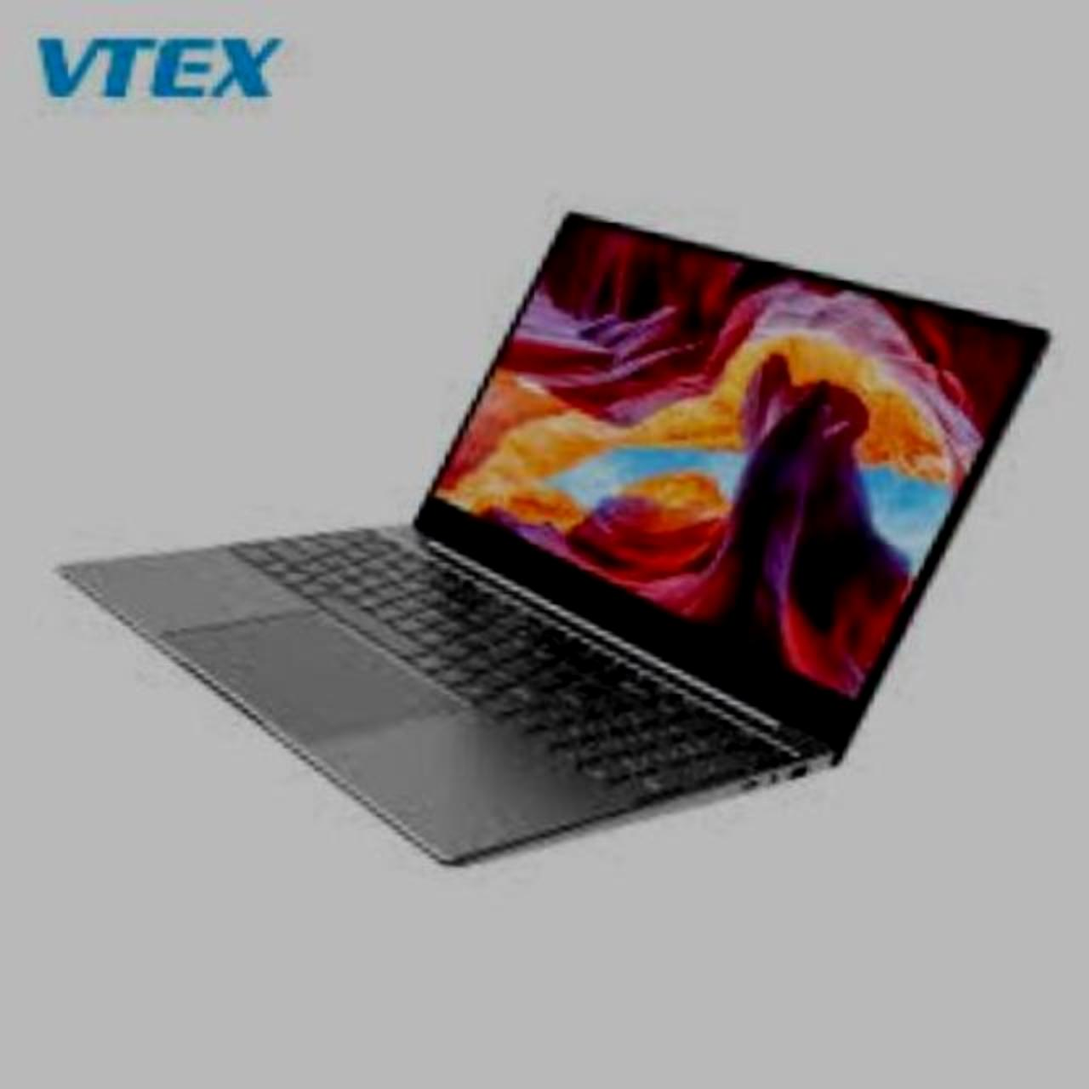laptop: (37, 144, 1059, 952)
